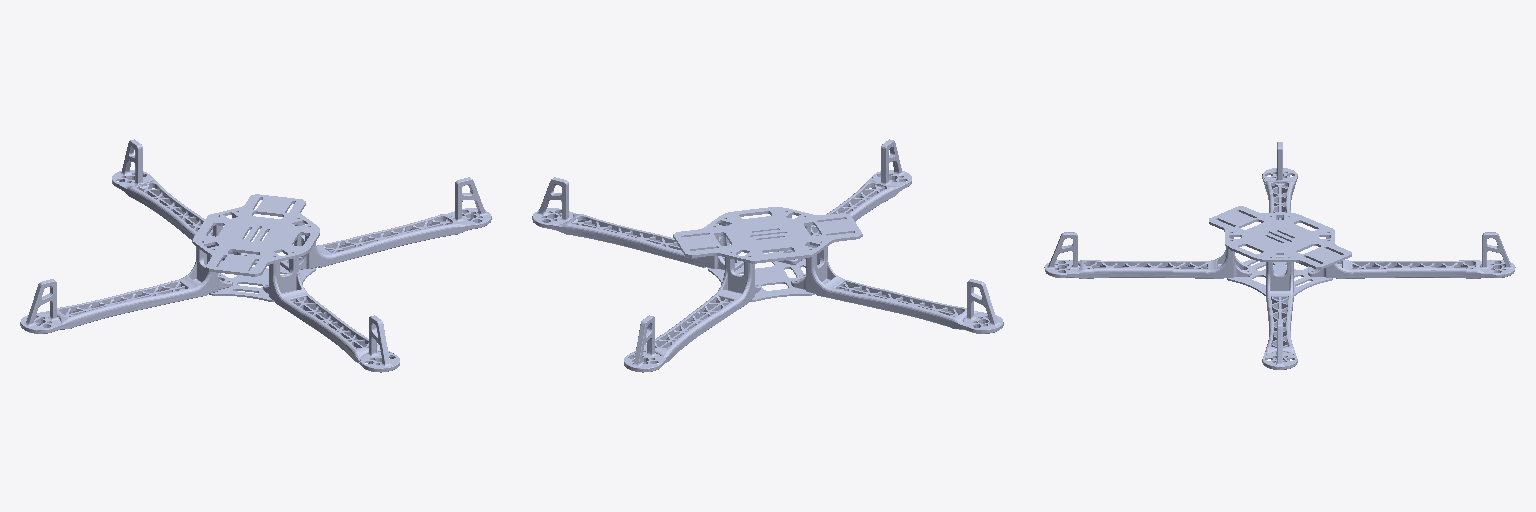
The robot description file, URDF, robot "Assem1.SLDASM":
<?xml version="1.0" encoding="utf-8"?>
<!-- This URDF was automatically created by SolidWorks to URDF Exporter! Originally created by [author] ([email redacted]) 
     Commit Version: 1.6.0-4-g7f85cfe  Build Version: 1.6.7995.38578
     For more information, please see http://wiki.ros.org/sw_urdf_exporter -->
<robot
  name="Assem1.SLDASM">
  <link
    name="base_link">
    <inertial>
      <origin
        xyz="6.8534E-05 0.012499 0.18943"
        rpy="0 0 0" />
      <mass
        value="1.7032" />
      <inertia
        ixx="0.0041407"
        ixy="-1.8569E-12"
        ixz="0.000201"
        iyy="0.008001"
        iyz="-1.8091E-11"
        izz="0.0041406" />
    </inertial>
    <visual>
      <origin
        xyz="0 0 0"
        rpy="0 0 0" />
      <geometry>
        <mesh
          filename="package://Assem1.SLDASM/meshes/base_link.STL" />
      </geometry>
      <material
        name="">
        <color
          rgba="0.79216 0.81961 0.93333 1" />
      </material>
    </visual>
    <collision>
      <origin
        xyz="0 0 0"
        rpy="0 0 0" />
      <geometry>
        <mesh
          filename="package://Assem1.SLDASM/meshes/base_link.STL" />
      </geometry>
    </collision>
  </link>
</robot>

--- Render facts (derived) ---
3 views of the same robot in one strip: view 1: azimuth 30°, elevation 25°; view 2: azimuth 150°, elevation 25°; view 3: azimuth 270°, elevation 25° (orthographic).
Robot: Assem1.SLDASM — 1 links, 0 joints (none); root link base_link; default pose: every joint at zero.
Links seen in each view (by area): view 1: base_link; view 2: base_link; view 3: base_link.
Boxes of the visible links, x1=… form: base_link: x1=20, y1=139, x2=491, y2=372; base_link: x1=532, y1=139, x2=1003, y2=372; base_link: x1=1044, y1=142, x2=1515, y2=369.
Bounding box of the posed robot: 0.5335 × 0.5335 × 0.051 m (x, y, z).
1 mesh visuals loaded from 1 distinct referenced files (1 binary STL).